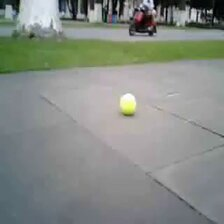tennis: (120, 93, 137, 116)
